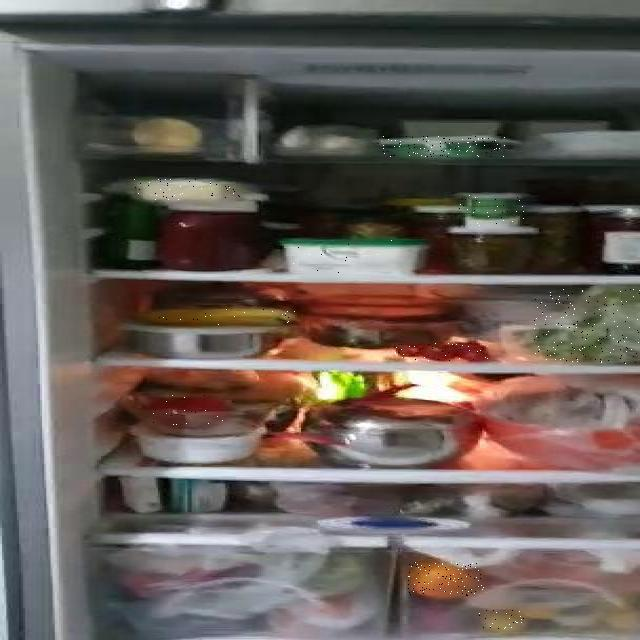banana: (143, 309, 298, 325)
cheese: (284, 236, 423, 274), (134, 179, 242, 201)
cream cheese: (383, 136, 505, 157)
lemon: (478, 610, 528, 630)
lettuce: (534, 289, 640, 364)
orange: (408, 562, 484, 596)
tomatoes: (152, 395, 233, 426), (394, 343, 490, 361)
yoghurt: (459, 190, 524, 226)
